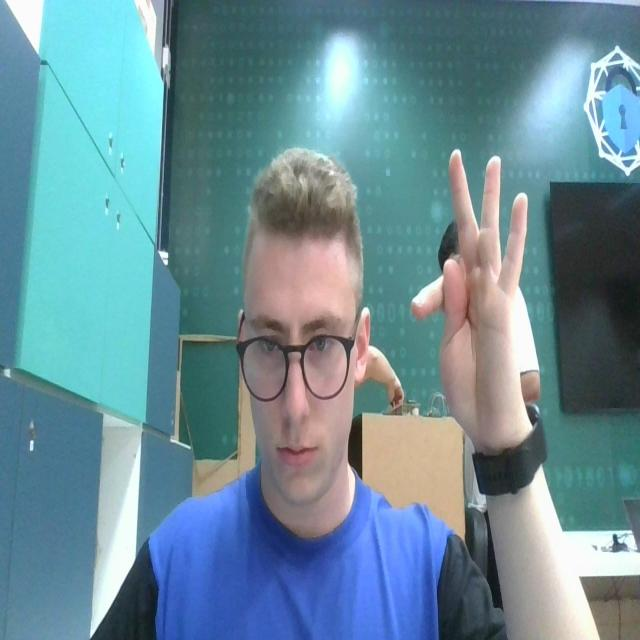T: (409, 146, 532, 446)
